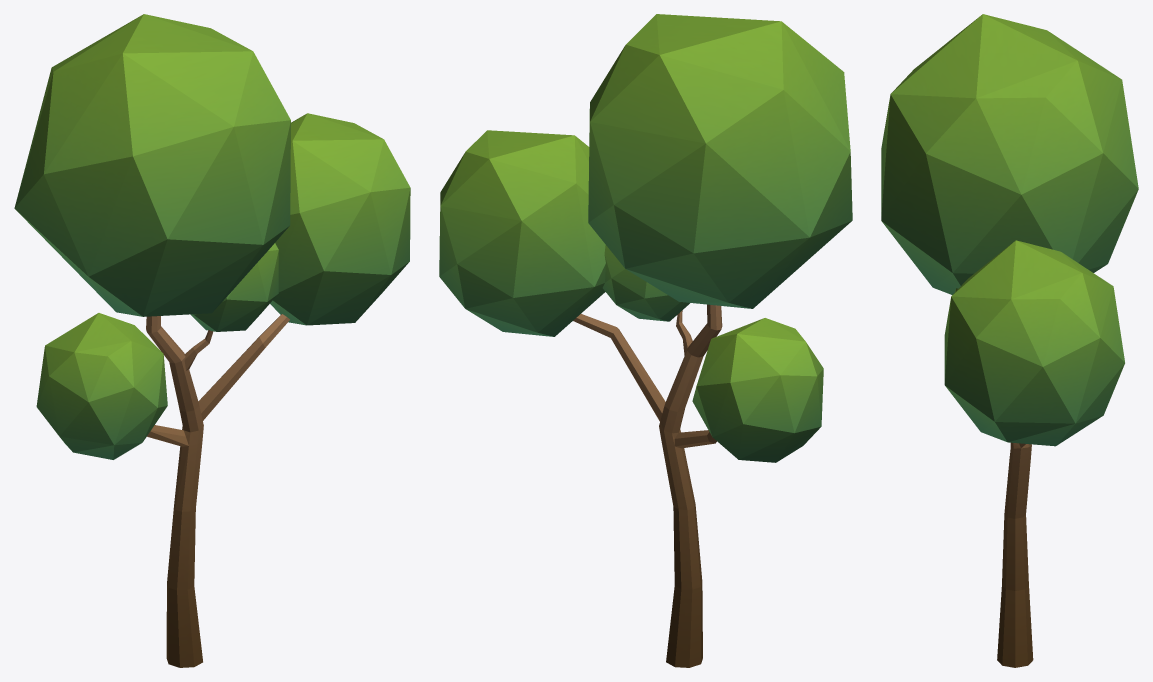
Rendered from ZLP_Plant_I_7.FBX.
3 views of the same model, side by side, from view 1: azimuth 30°, elevation 25°; view 2: azimuth 150°, elevation 25°; view 3: azimuth 270°, elevation 25° (orthographic). The views are drawn at different scales.
Parts seen in each view (by area): view 1: ZLP_Plant_I_7; view 2: ZLP_Plant_I_7; view 3: ZLP_Plant_I_7.
Boxes of the visible parts, x1=… form: ZLP_Plant_I_7: x1=14, y1=14, x2=410, y2=667; ZLP_Plant_I_7: x1=439, y1=14, x2=852, y2=667; ZLP_Plant_I_7: x1=881, y1=14, x2=1138, y2=667.
Size of the model in its own units: 123 by 198 by 75.86.
